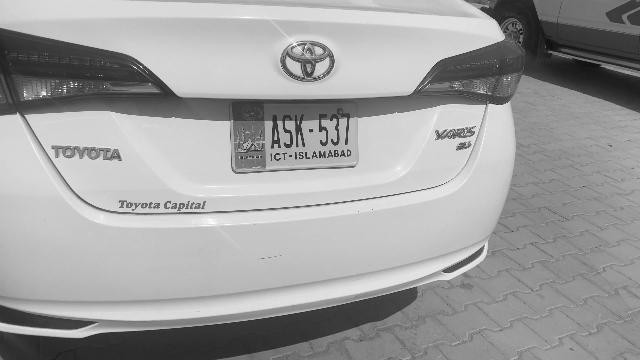Number: (269, 111, 351, 152)
